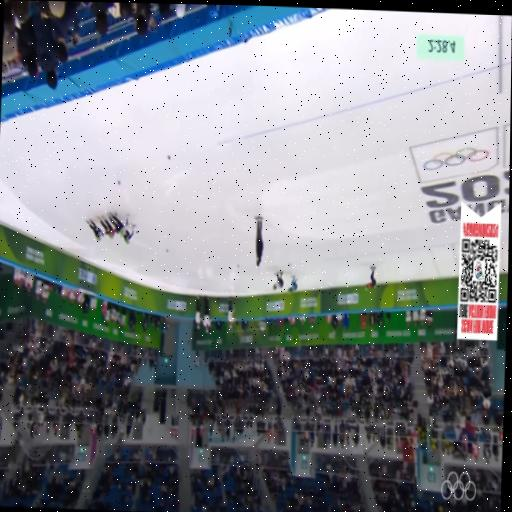Skater: (108, 211, 129, 236), (98, 216, 115, 237), (365, 266, 377, 292), (88, 219, 103, 239), (287, 273, 298, 295), (124, 225, 135, 243), (274, 271, 283, 289)
